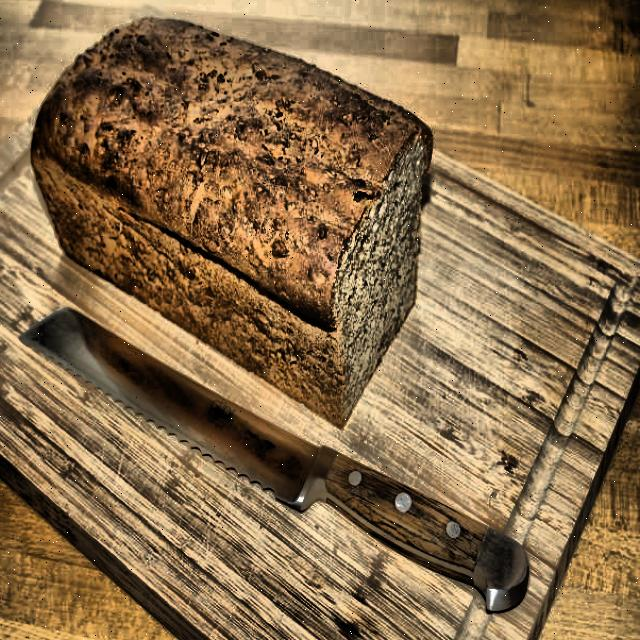knife: (19, 298, 536, 623)
